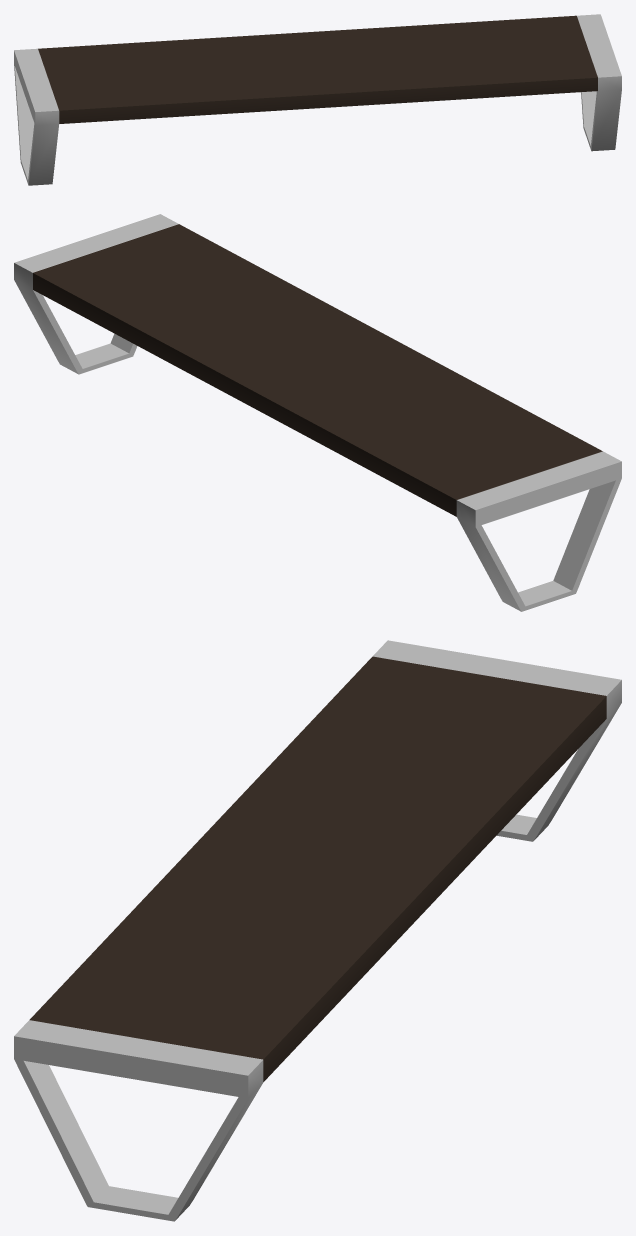
Rendered from MSH_Banca.FBX.
The picture shows the model from 3 angles, top to bottom: view 1: azimuth 30°, elevation 25°; view 2: azimuth 150°, elevation 25°; view 3: azimuth 270°, elevation 25°; orthographic projection. The views are drawn at different scales.
Visible parts, largest first — view 1: MSH_Banca; view 2: MSH_Banca; view 3: MSH_Banca.
Part boxes in pixels (box(x1,y1,x2,y2)): MSH_Banca: box(14, 14, 621, 185); MSH_Banca: box(14, 214, 621, 611); MSH_Banca: box(14, 640, 621, 1221).
Bounding box in the file's own units: 204 × 34.64 × 121.
